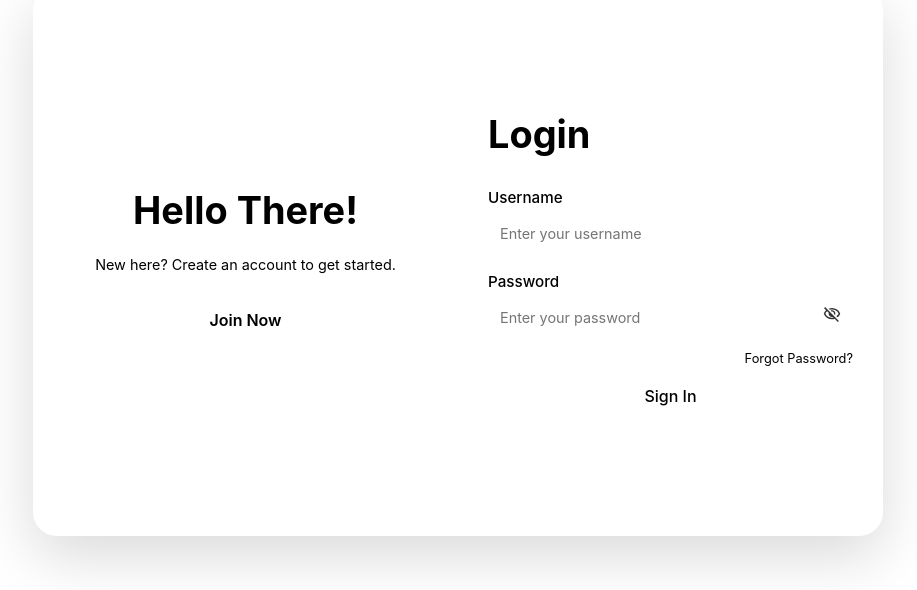
Test: AccessComponent › Login › should show an error message on invalid form logins
The image size is (917, 590).
Click the button "Sign In". click: coordinates (670, 396)
box: 622,376 -> 719,416
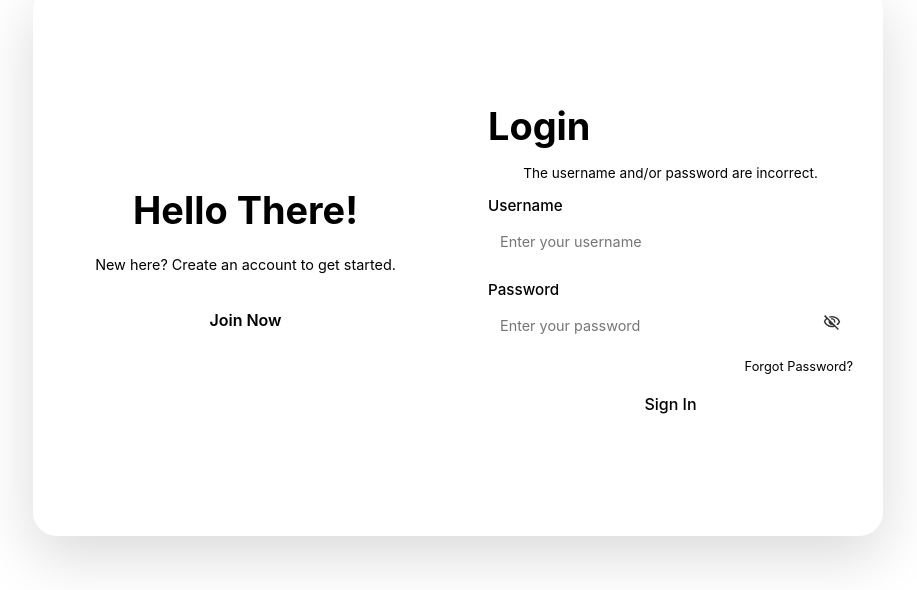
expect the text "The username and/or password are incorrect." is shown: met, box 523,165 -> 818,181
expect the text with class "general" reads "The username and/or password are incorrect.": met, box 523,165 -> 818,181
